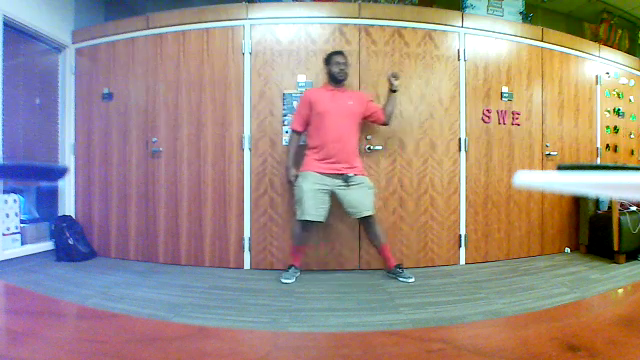up: (382, 60, 403, 91)
